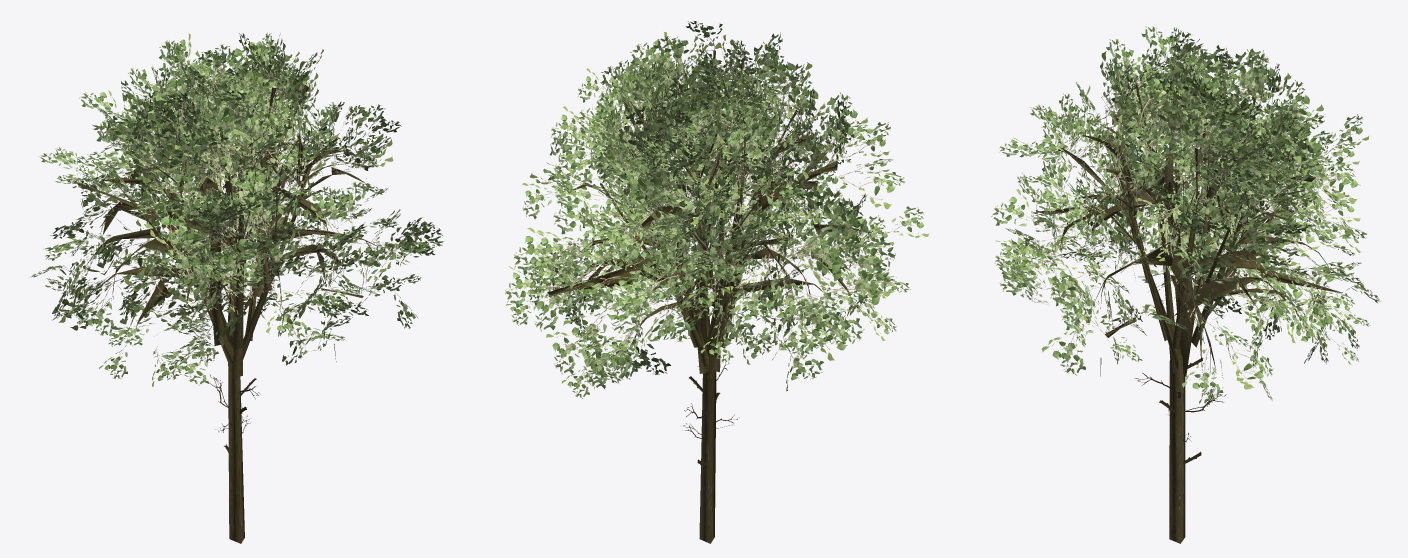
The model's file is TreeLOD2.fbx.
3 renders of one model, left to right at view 1: azimuth 30°, elevation 25°; view 2: azimuth 150°, elevation 25°; view 3: azimuth 270°, elevation 25°, orthographic.
Visible parts, largest first — view 1: Plane.029; view 2: Plane.029; view 3: Plane.029.
Part boxes in pixels (x1,y1,x2,y2): Plane.029: [29, 33, 443, 543]; Plane.029: [505, 21, 929, 543]; Plane.029: [991, 26, 1381, 543].
Bounding box in the file's own units: 758 × 1016 × 750.
